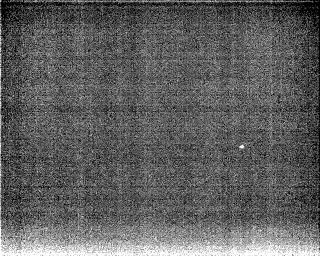AIRPLANE: (237, 142, 247, 152)
